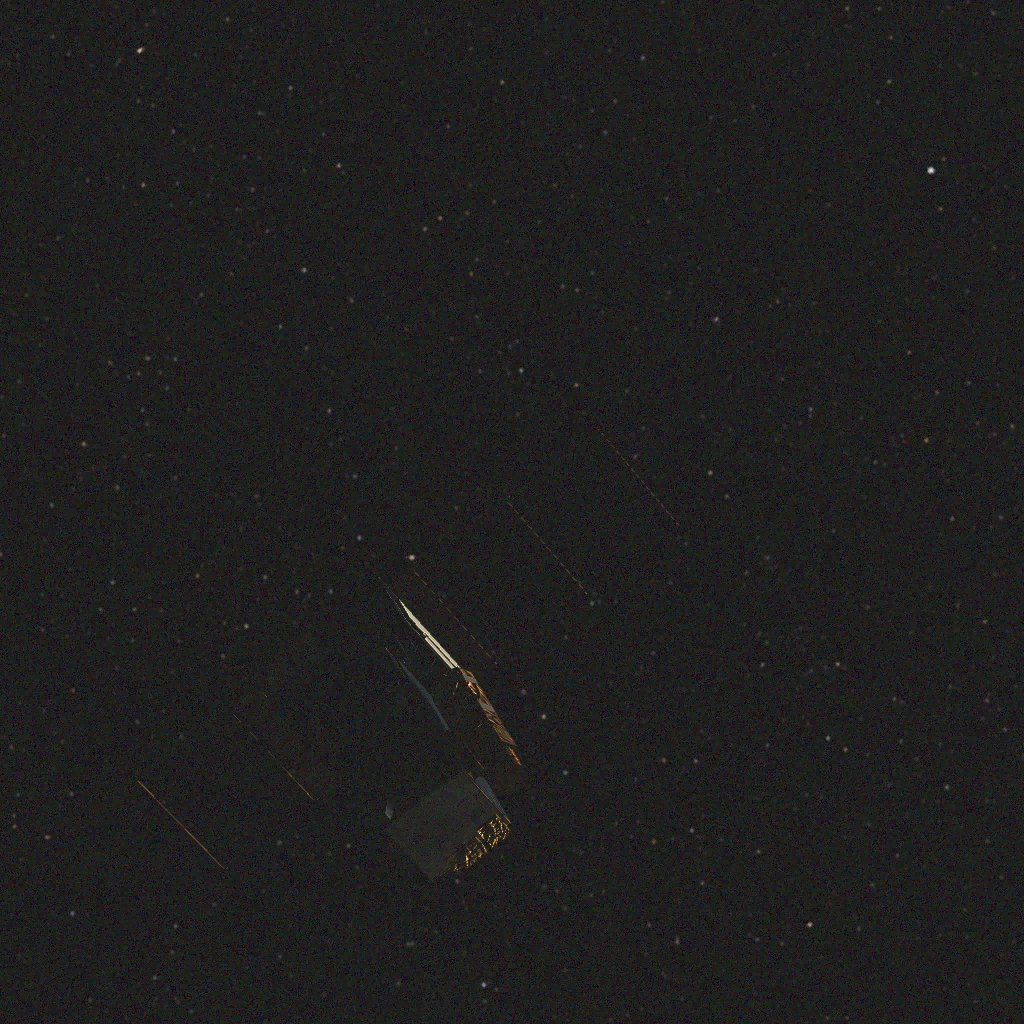soho: (50, 428, 679, 934)
